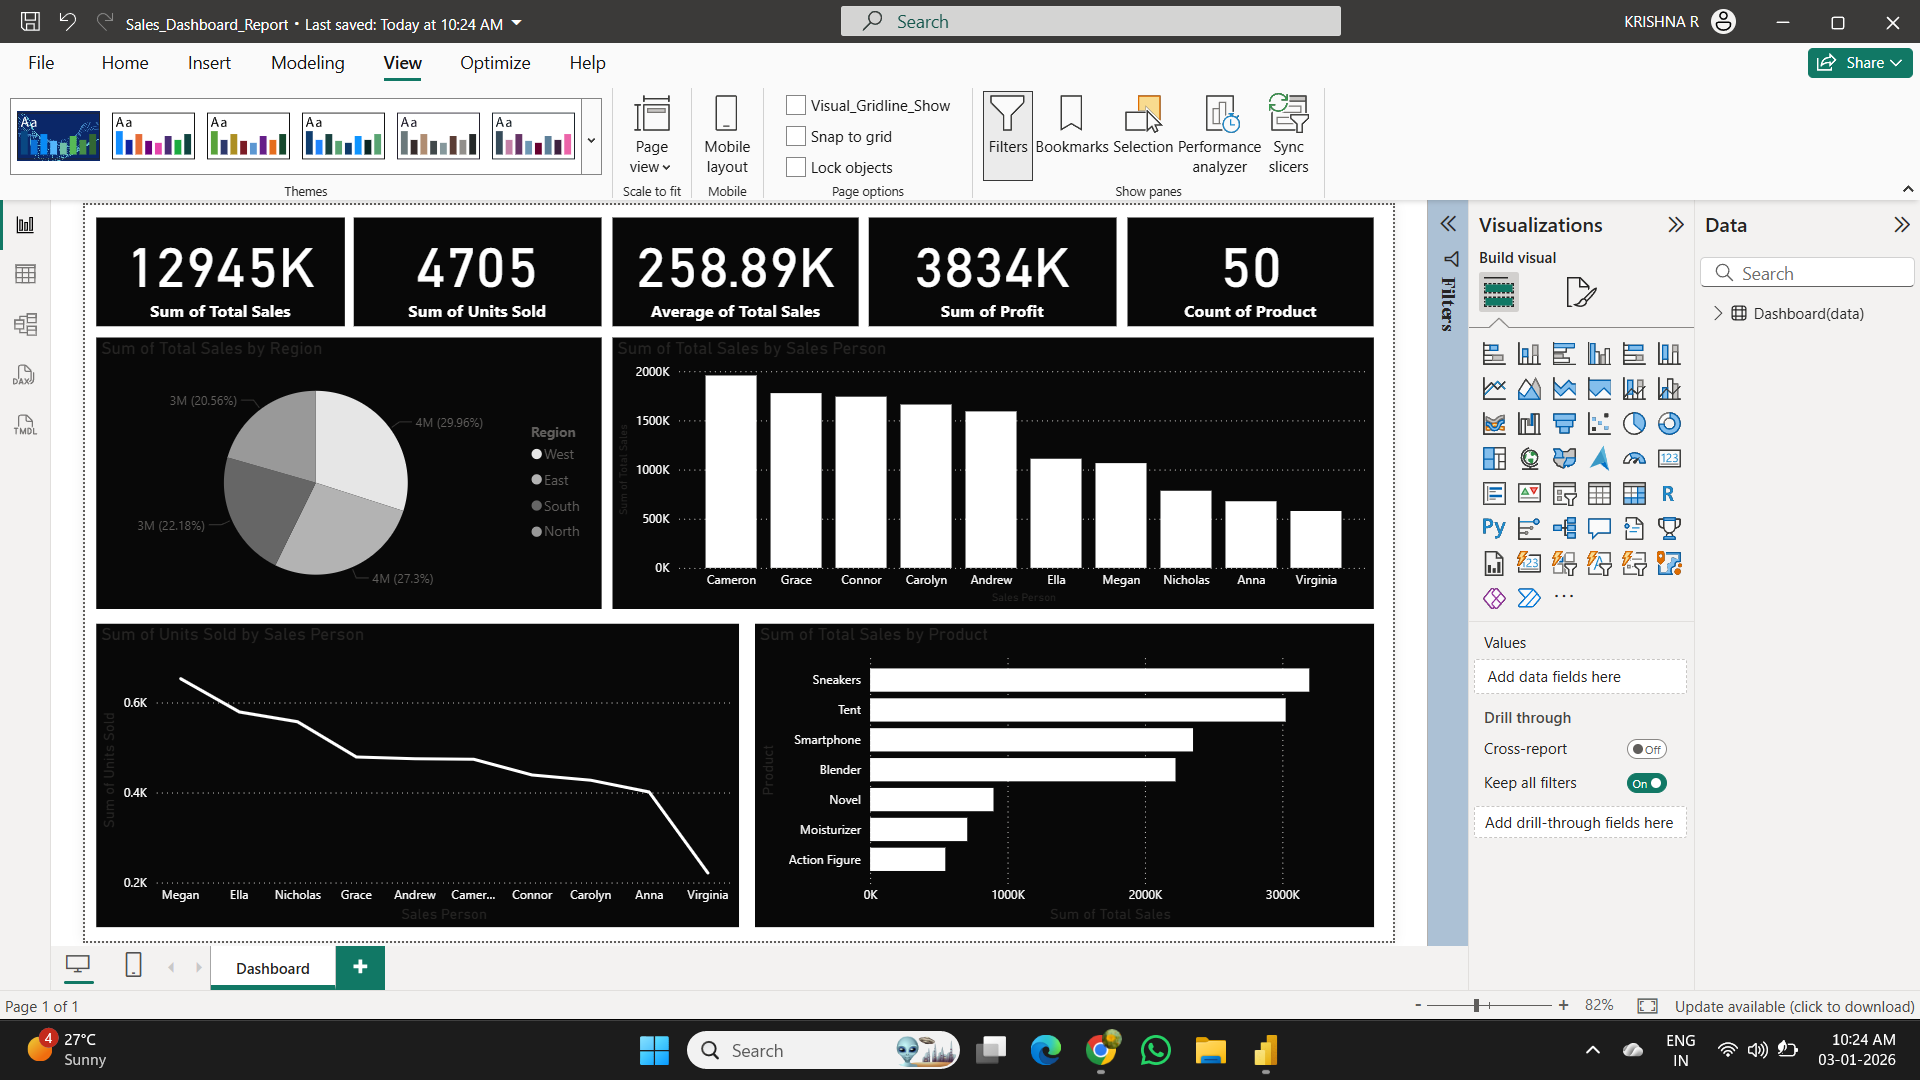

The dashboard page shown, as its layout file describes it:
{"tool":"powerbi","page":{"name":"Dashboard","canvas":[1280,720],"ordinal":0},"visuals":[{"type":"card","fields":{"Values":["Sum(Dashboard(data).Total Sales)"]},"box":[11,12.2,243.3,106.4],"z":0},{"type":"card","fields":{"Values":["Sum(Dashboard(data).Units Sold)"]},"box":[262.9,12.2,242.1,106.4],"z":1000},{"type":"card","fields":{"Values":["Avg(Dashboard(data).Total Sales)"]},"box":[516,12.2,240.9,106.4],"z":2000},{"type":"card","fields":{"Values":["Sum(Dashboard(data).Profit)"]},"box":[766.7,12.2,242.1,106.4],"z":3000},{"type":"card","fields":{"Values":["CountNonNull(Dashboard(data).Product)"]},"box":[1019.8,12.2,240.9,106.4],"z":4000},{"type":"pieChart","fields":{"Category":["Dashboard(data).Region"],"Y":["Sum(Dashboard(data).Total Sales)"]},"box":[11,129.6,494,265.4],"z":5000},{"type":"lineChart","fields":{"Category":["Dashboard(data).Sales Person"],"Y":["Sum(Dashboard(data).Units Sold)"]},"box":[11,409.6,628.5,297.1],"z":6000},{"type":"barChart","fields":{"Category":["Dashboard(data).Product"],"Y":["Sum(Dashboard(data).Total Sales)"]},"box":[655.4,409.6,605.3,297.1],"z":7000},{"type":"clusteredColumnChart","fields":{"Category":["Dashboard(data).Sales Person"],"Y":["Sum(Dashboard(data).Total Sales)"]},"box":[516,129.6,744.7,265.4],"z":8000}]}

Visuals, with their boxes on the page's 1280x720 design canvas (x1, y1, x2, y2). These are canvas units, not pixel positions in the 1920x1080 screenshot, which may show the page scaled, cropped or inside an application window:
card - Sum(Dashboard(data).Total Sales): [x1=11, y1=12, x2=254, y2=119]
card - Sum(Dashboard(data).Units Sold): [x1=263, y1=12, x2=505, y2=119]
card - Avg(Dashboard(data).Total Sales): [x1=516, y1=12, x2=757, y2=119]
card - Sum(Dashboard(data).Profit): [x1=767, y1=12, x2=1009, y2=119]
card - CountNonNull(Dashboard(data).Product): [x1=1020, y1=12, x2=1261, y2=119]
pieChart - Dashboard(data).Region x Sum(Dashboard(data).Total Sales): [x1=11, y1=130, x2=505, y2=395]
lineChart - Dashboard(data).Sales Person x Sum(Dashboard(data).Units Sold): [x1=11, y1=410, x2=640, y2=707]
barChart - Dashboard(data).Product x Sum(Dashboard(data).Total Sales): [x1=655, y1=410, x2=1261, y2=707]
clusteredColumnChart - Dashboard(data).Sales Person x Sum(Dashboard(data).Total Sales): [x1=516, y1=130, x2=1261, y2=395]
